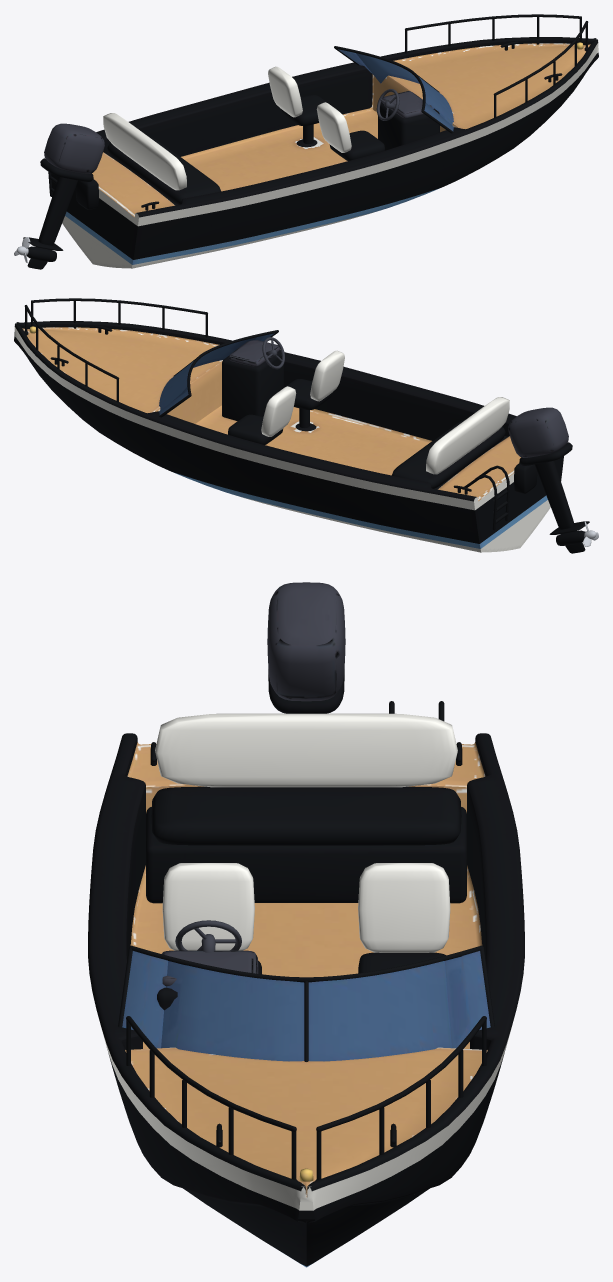
The model's file is lancha-ventura-195-2013.glb.
The picture shows the model from 3 angles, top to bottom: view 1: azimuth 30°, elevation 25°; view 2: azimuth 150°, elevation 25°; view 3: azimuth 270°, elevation 25°; orthographic projection. The views are drawn at different scales.
Parts seen in each view (by area): view 1: motorboat_body, motorboat_steering_wheel; view 2: motorboat_body, motorboat_steering_wheel; view 3: motorboat_body, motorboat_steering_wheel.
Part boxes in pixels (left/top/right/bottom): motorboat_body: left=23, top=14, right=598, bottom=269; motorboat_steering_wheel: left=376, top=89, right=399, bottom=120; motorboat_body: left=14, top=298, right=589, bottom=553; motorboat_steering_wheel: left=262, top=337, right=284, bottom=369; motorboat_body: left=88, top=582, right=524, bottom=1267; motorboat_steering_wheel: left=175, top=920, right=241, bottom=952.
Size of the model in its own units: 5.94 by 1.45 by 1.94.
3 materials, 1 textured.
